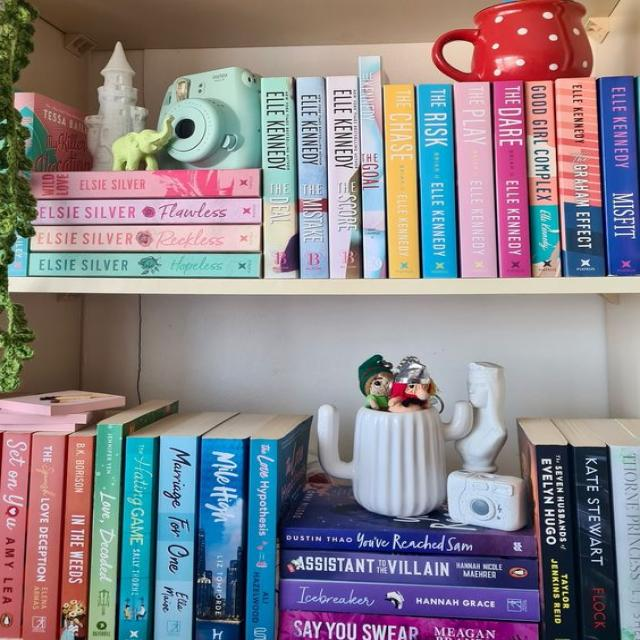book: (281, 579, 540, 621), (281, 550, 538, 590), (554, 78, 605, 276), (20, 433, 68, 639), (574, 445, 623, 640), (198, 441, 245, 640), (154, 435, 199, 640), (453, 83, 496, 278), (598, 76, 639, 275), (536, 445, 578, 638), (416, 84, 457, 278), (283, 610, 538, 640), (491, 81, 530, 277), (59, 427, 93, 639), (119, 436, 154, 640), (326, 75, 361, 278), (31, 169, 260, 200), (91, 424, 124, 639), (261, 76, 296, 278), (279, 529, 539, 556), (525, 81, 559, 277), (606, 447, 640, 639), (0, 431, 31, 639), (249, 439, 281, 640), (296, 78, 328, 278), (385, 84, 418, 277), (20, 252, 259, 277), (31, 225, 260, 251), (35, 199, 260, 224), (359, 56, 384, 278)
camera: (157, 67, 260, 169)
